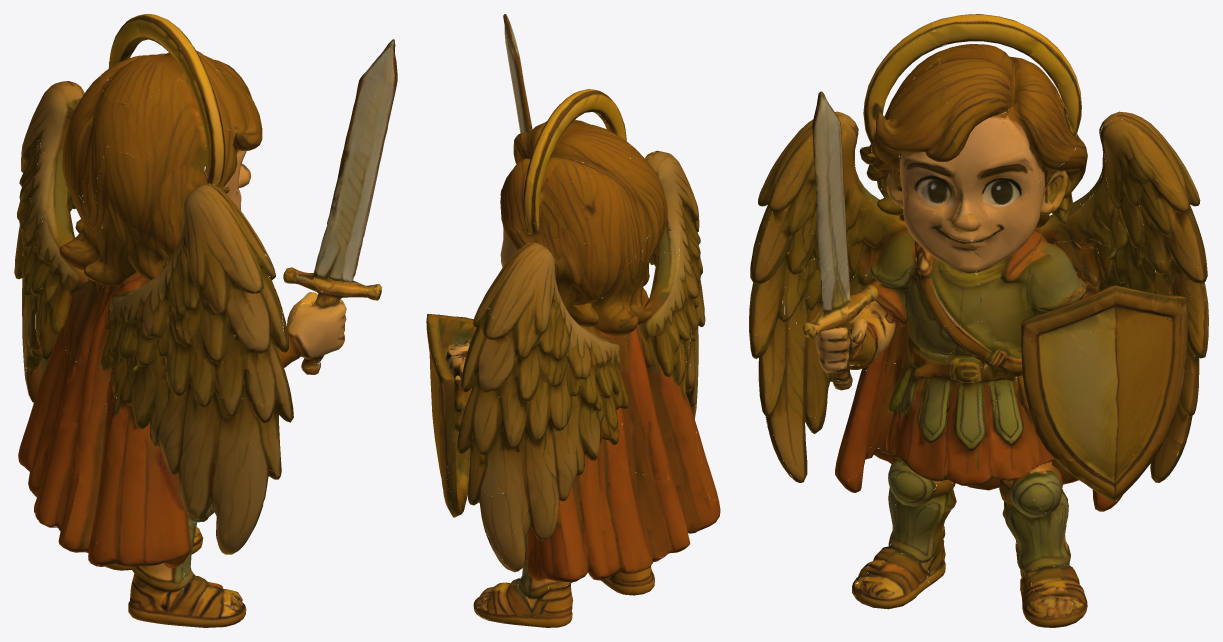
The model's file is michael.glb.
3 renders of one model, left to right at view 1: azimuth 30°, elevation 25°; view 2: azimuth 150°, elevation 25°; view 3: azimuth 270°, elevation 25°, orthographic. The views are drawn at different scales.
Parts seen in each view (by area): view 1: tripo_node_6fe4862c-3b17-418b-831c-ca2d7b3aa371.001; view 2: tripo_node_6fe4862c-3b17-418b-831c-ca2d7b3aa371.001; view 3: tripo_node_6fe4862c-3b17-418b-831c-ca2d7b3aa371.001.
Part boxes in pixels (box(x1,y1,x2,y2)): tripo_node_6fe4862c-3b17-418b-831c-ca2d7b3aa371.001: box(14, 14, 397, 627); tripo_node_6fe4862c-3b17-418b-831c-ca2d7b3aa371.001: box(426, 14, 720, 627); tripo_node_6fe4862c-3b17-418b-831c-ca2d7b3aa371.001: box(749, 14, 1208, 627).
Size of the model in its own units: 0.5044 by 1 by 0.7167.
Materials: 1 (1 with a texture image).
